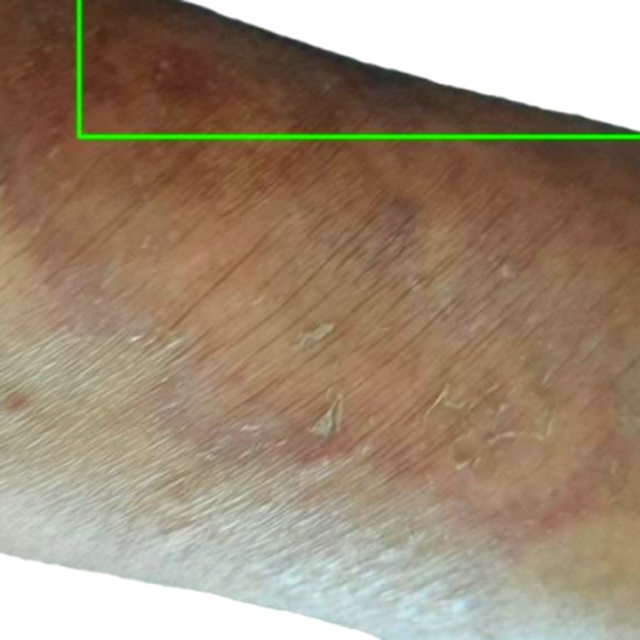Tinea Corporis: (77, 0, 639, 136)
